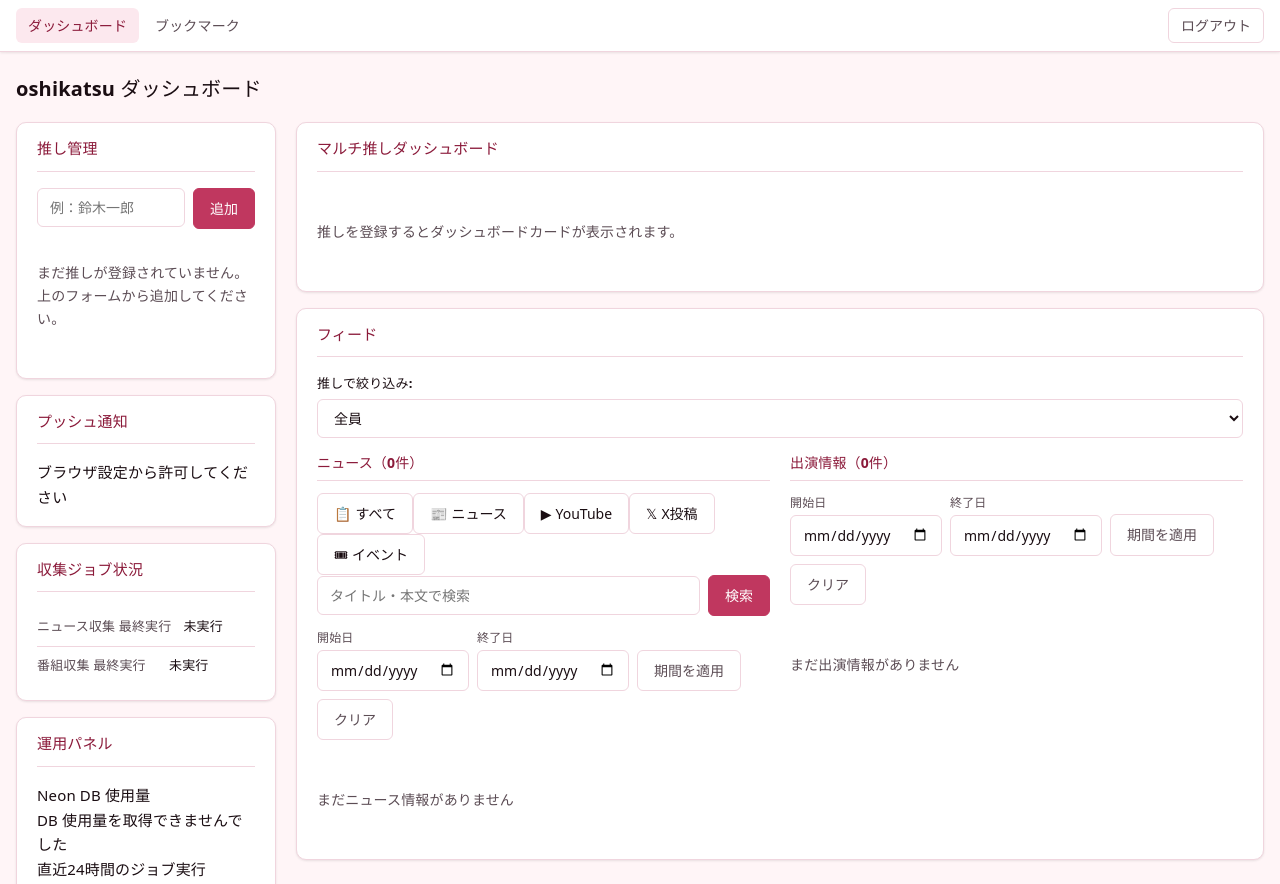
Test case: DashboardPage › ローディング中はボタンが無効になる
Click the button "ログアウト" at x=1216, y=26, box [1168,8,1264,43]
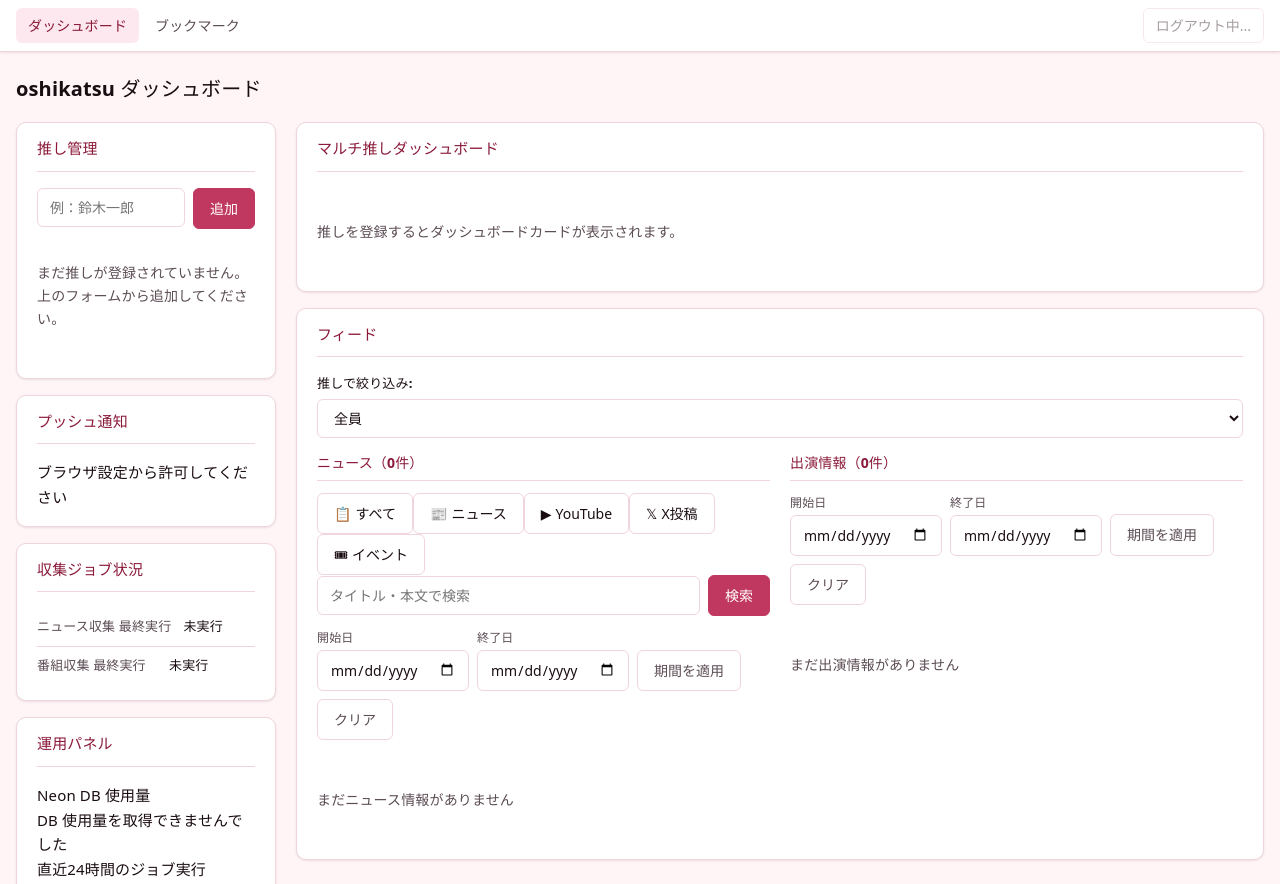
Check: the button "ログアウト中..." is disabled, box [1143,8,1264,43]
